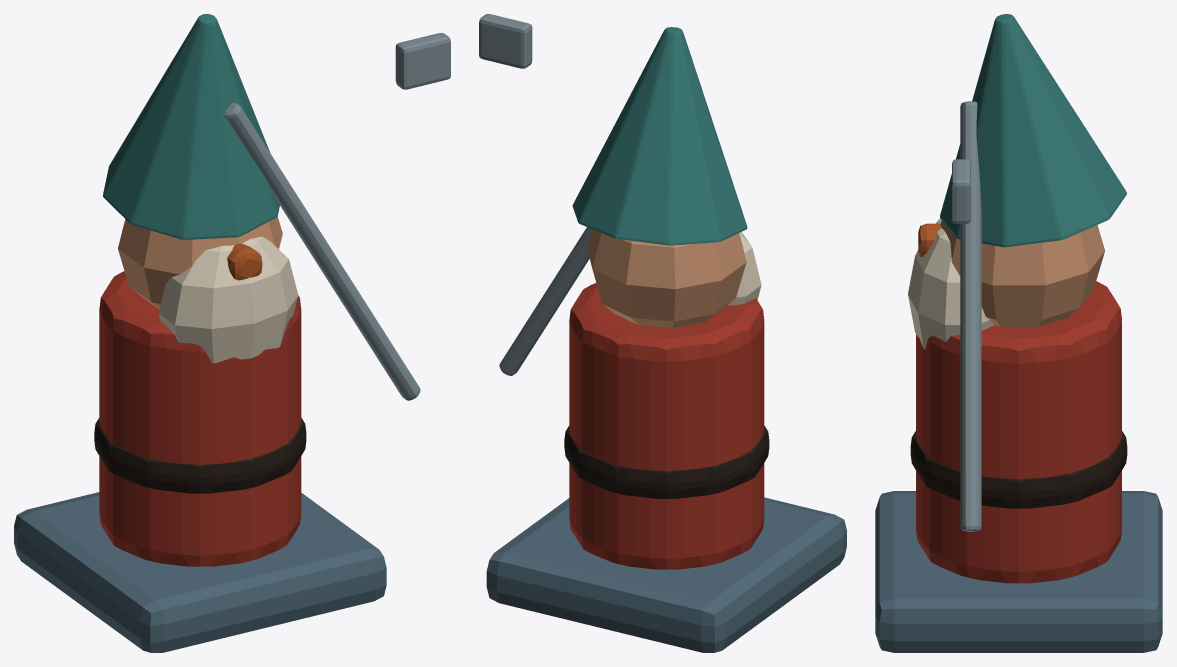
File: decor_scrap_gnome.glb
3 views of the same model, side by side, from view 1: azimuth 30°, elevation 25°; view 2: azimuth 150°, elevation 25°; view 3: azimuth 270°, elevation 25° (orthographic). The views are drawn at different scales.
Parts seen in each view (by area): view 1: ScrapGnome_Mesh; view 2: ScrapGnome_Mesh; view 3: ScrapGnome_Mesh.
Part boxes in pixels (bbox=[...]): ScrapGnome_Mesh: bbox=[14, 14, 450, 652]; ScrapGnome_Mesh: bbox=[479, 14, 846, 652]; ScrapGnome_Mesh: bbox=[875, 14, 1162, 652].
Size of the model in its own units: 0.42 by 0.6698 by 0.3.
